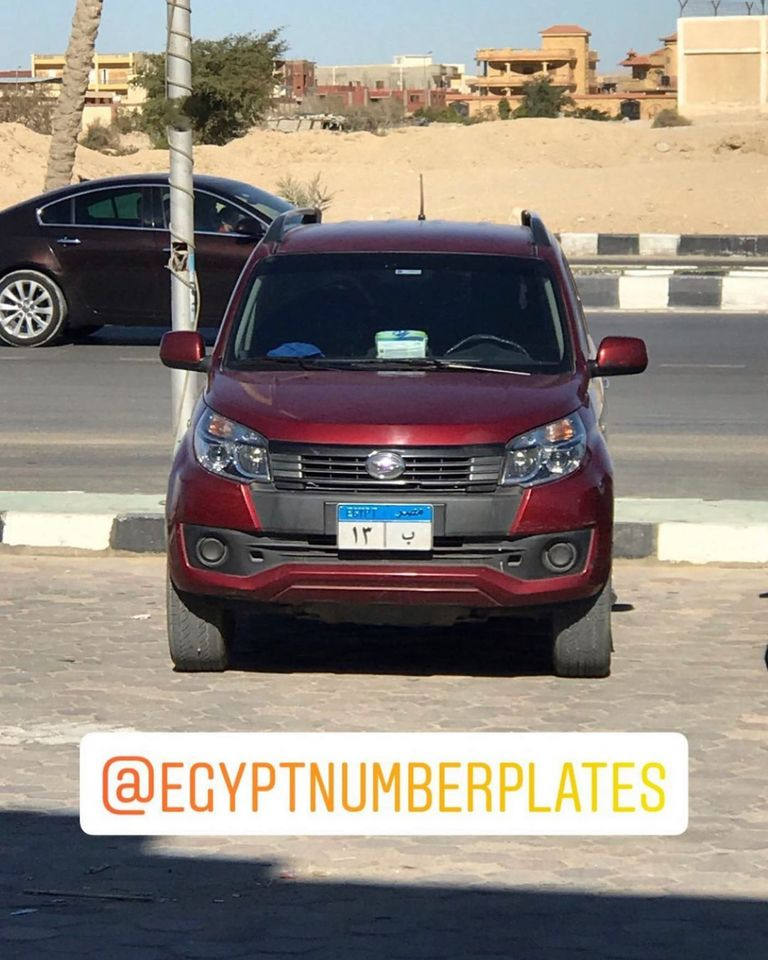carpl: (335, 506, 434, 552)
